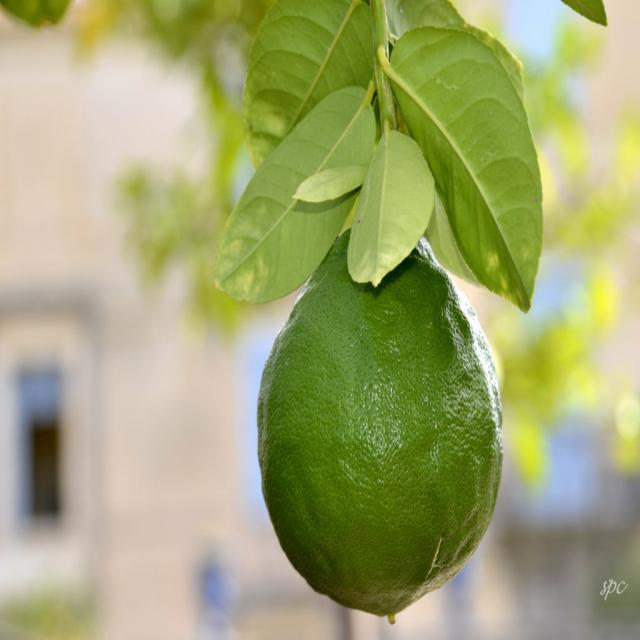Lemon: (260, 229, 503, 612)
